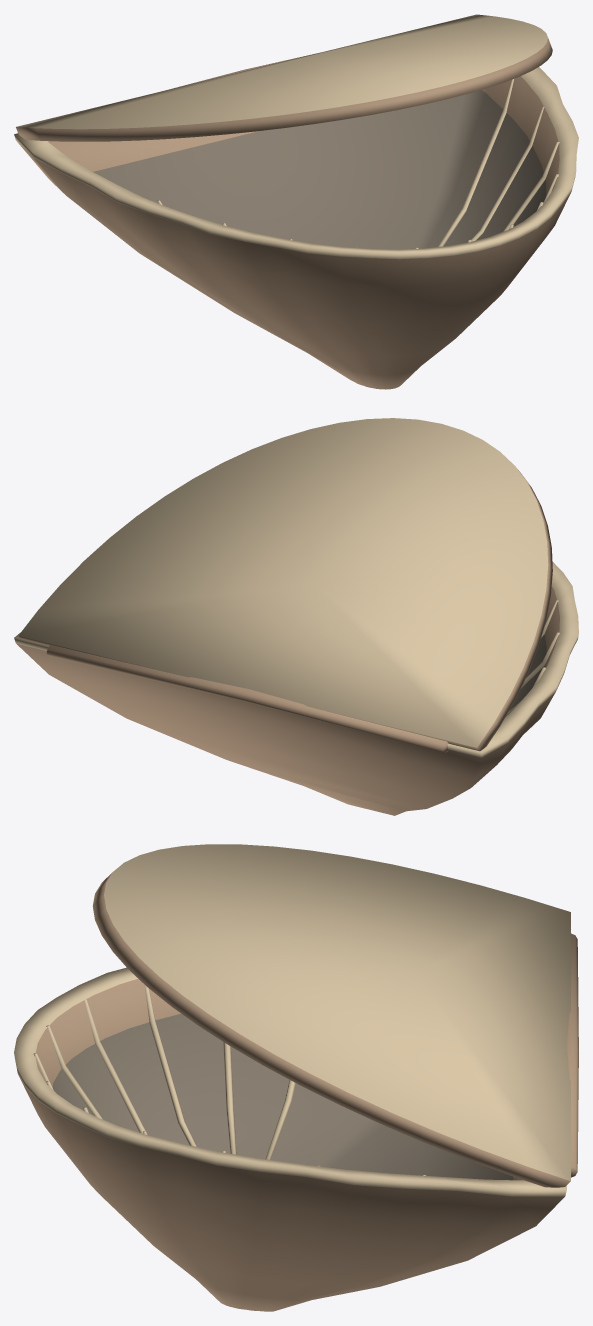
The model's file is calceola.glb.
3 renders of one model, top to bottom at view 1: azimuth 30°, elevation 25°; view 2: azimuth 150°, elevation 25°; view 3: azimuth 270°, elevation 25°, orthographic. The views are drawn at different scales.
Visible parts, largest first — view 1: continuous-slipper-cup-and-recess, single-semicircular-lid, restrained-growth-ribs-and-hinge; view 2: single-semicircular-lid, continuous-slipper-cup-and-recess, restrained-growth-ribs-and-hinge; view 3: single-semicircular-lid, continuous-slipper-cup-and-recess, restrained-growth-ribs-and-hinge.
Part boxes in pixels (bbox=[...]): continuous-slipper-cup-and-recess: bbox=[14, 67, 578, 389]; single-semicircular-lid: bbox=[16, 14, 552, 141]; restrained-growth-ribs-and-hinge: bbox=[157, 54, 559, 248]; single-semicircular-lid: bbox=[18, 418, 552, 751]; continuous-slipper-cup-and-recess: bbox=[14, 562, 578, 815]; restrained-growth-ribs-and-hinge: bbox=[46, 600, 559, 752]; single-semicircular-lid: bbox=[92, 844, 570, 1187]; continuous-slipper-cup-and-recess: bbox=[14, 967, 566, 1311]; restrained-growth-ribs-and-hinge: bbox=[33, 933, 578, 1177].
Size of the model in its own units: 0.07 by 0.0474 by 0.0602.
